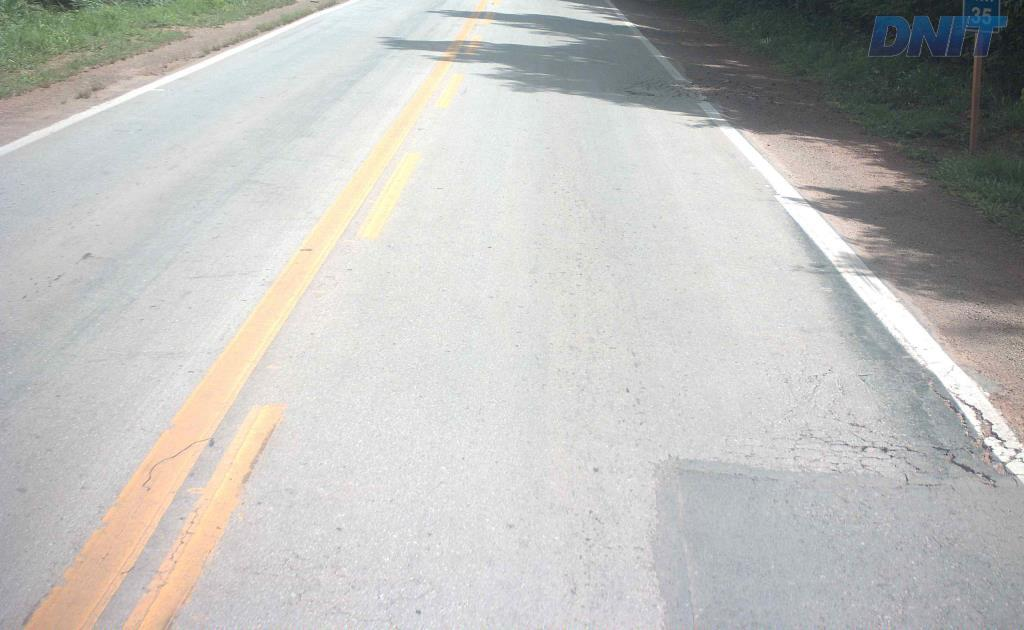crack: (929, 431, 998, 488)
